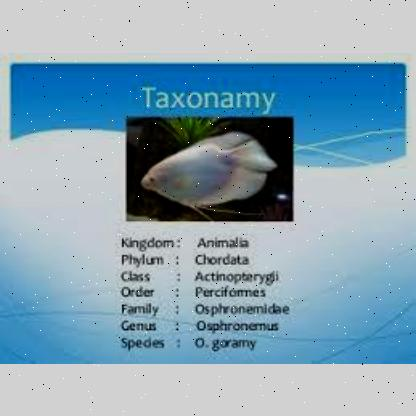gurame: (142, 132, 272, 210)
